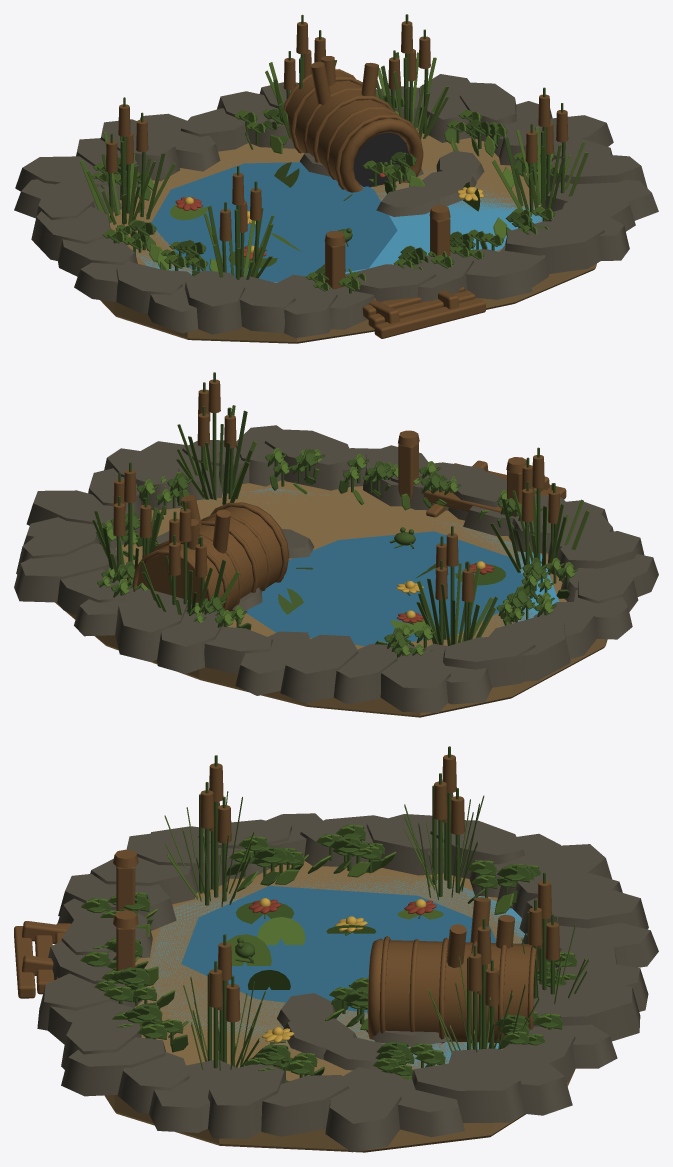
The model's file is frog-pond.glb.
The picture shows the model from 3 angles, top to bottom: view 1: azimuth 30°, elevation 25°; view 2: azimuth 150°, elevation 25°; view 3: azimuth 270°, elevation 25°; orthographic projection. The views are drawn at different scales.
Parts seen in each view (by area): view 1: frog-pond-farm-stone-dark, frog-pond-farm-wood-shadow, frog-pond-farm-water-deep, frog-pond-farm-leaf-dark, frog-pond-farm-leaf, frog-pond-farm-dirt, frog-pond-farm-water, frog-pond-farm-window; view 2: frog-pond-farm-stone-dark, frog-pond-farm-wood-shadow, frog-pond-farm-water-deep, frog-pond-farm-leaf-dark, frog-pond-farm-dirt, frog-pond-farm-leaf, frog-pond-farm-water; view 3: frog-pond-farm-stone-dark, frog-pond-farm-wood-shadow, frog-pond-farm-leaf-dark, frog-pond-farm-dirt, frog-pond-farm-water-deep, frog-pond-farm-leaf, frog-pond-farm-water, frog-pond-farm-gold.
Boxes of the visible parts, x1,y1,x2,y2 form: frog-pond-farm-stone-dark: [14, 74, 658, 338]; frog-pond-farm-wood-shadow: [105, 21, 568, 338]; frog-pond-farm-water-deep: [151, 162, 397, 282]; frog-pond-farm-leaf-dark: [95, 14, 565, 293]; frog-pond-farm-leaf: [80, 52, 588, 290]; frog-pond-farm-dirt: [100, 127, 596, 343]; frog-pond-farm-water: [136, 152, 542, 282]; frog-pond-farm-window: [353, 132, 409, 187]; frog-pond-farm-stone-dark: [14, 425, 658, 712]; frog-pond-farm-wood-shadow: [113, 379, 566, 611]; frog-pond-farm-water-deep: [243, 531, 529, 646]; frog-pond-farm-leaf-dark: [97, 372, 578, 657]; frog-pond-farm-dirt: [55, 480, 607, 717]; frog-pond-farm-leaf: [92, 405, 589, 656]; frog-pond-farm-water: [209, 488, 559, 633]; frog-pond-farm-stone-dark: [37, 813, 658, 1152]; frog-pond-farm-wood-shadow: [14, 754, 559, 1043]; frog-pond-farm-leaf-dark: [87, 746, 576, 1082]; frog-pond-farm-dirt: [104, 860, 575, 1152]; frog-pond-farm-water-deep: [181, 886, 496, 1012]; frog-pond-farm-leaf: [80, 791, 589, 1080]; frog-pond-farm-water: [141, 871, 524, 1069]; frog-pond-farm-gold: [259, 898, 426, 1042].
Size of the model in its own units: 8.75 by 2.27 by 7.46.
